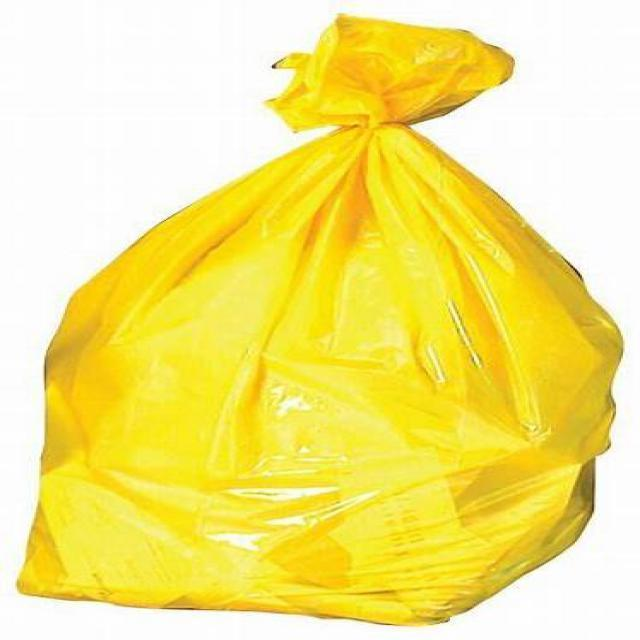waste: (44, 16, 596, 614)
